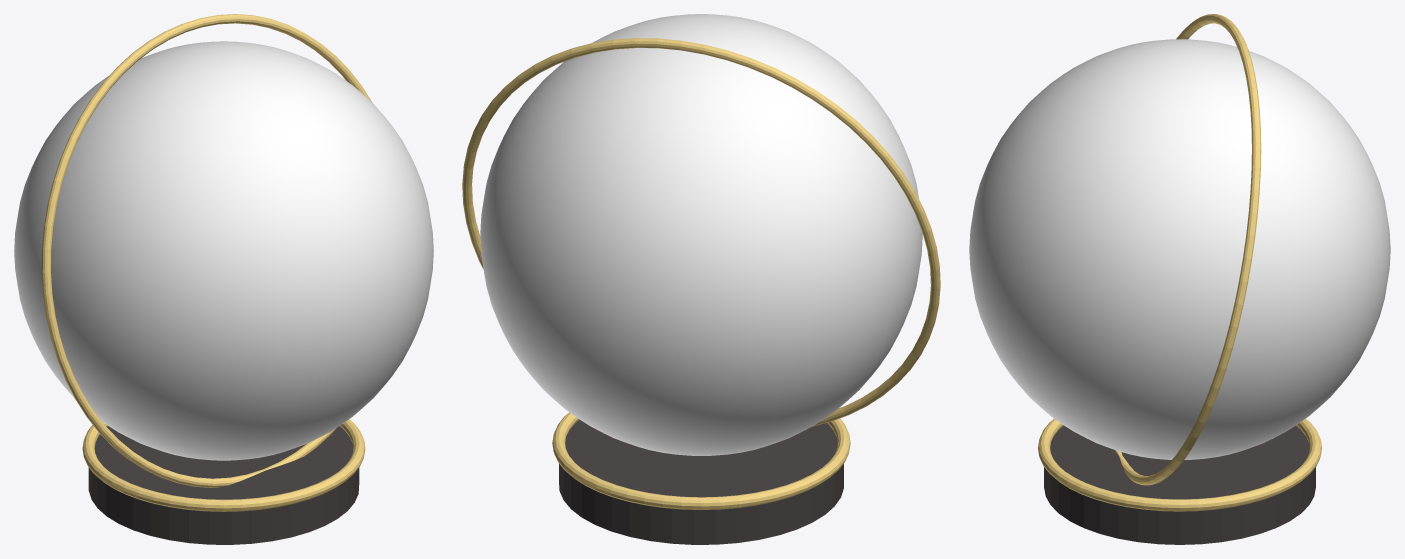
Rendered from planet-commercial.glb.
The picture shows the model from 3 angles, left to right: view 1: azimuth 30°, elevation 25°; view 2: azimuth 150°, elevation 25°; view 3: azimuth 270°, elevation 25°; orthographic projection. The views are drawn at different scales.
Visible parts, largest first — view 1: Planet_Commercial_Glass, Planet_Commercial_Base, Planet_Commercial_Ring, Planet_Commercial_Trim; view 2: Planet_Commercial_Glass, Planet_Commercial_Base, Planet_Commercial_Ring, Planet_Commercial_Trim; view 3: Planet_Commercial_Glass, Planet_Commercial_Base, Planet_Commercial_Ring, Planet_Commercial_Trim.
Boxes of the visible parts, left/top/right/bottom form: Planet_Commercial_Glass: left=14, top=41, right=433, bottom=460; Planet_Commercial_Base: left=88, top=426, right=359, bottom=544; Planet_Commercial_Ring: left=41, top=14, right=372, bottom=487; Planet_Commercial_Trim: left=82, top=419, right=365, bottom=511; Planet_Commercial_Glass: left=480, top=14, right=922, bottom=455; Planet_Commercial_Base: left=559, top=419, right=843, bottom=544; Planet_Commercial_Ring: left=462, top=38, right=940, bottom=426; Planet_Commercial_Trim: left=552, top=412, right=850, bottom=509; Planet_Commercial_Glass: left=969, top=39, right=1390, bottom=459; Planet_Commercial_Base: left=1044, top=425, right=1315, bottom=544; Planet_Commercial_Ring: left=1115, top=14, right=1261, bottom=485; Planet_Commercial_Trim: left=1038, top=418, right=1321, bottom=511.
Bounding box in the file's own units: 3.44 × 3.63 × 3.1.
